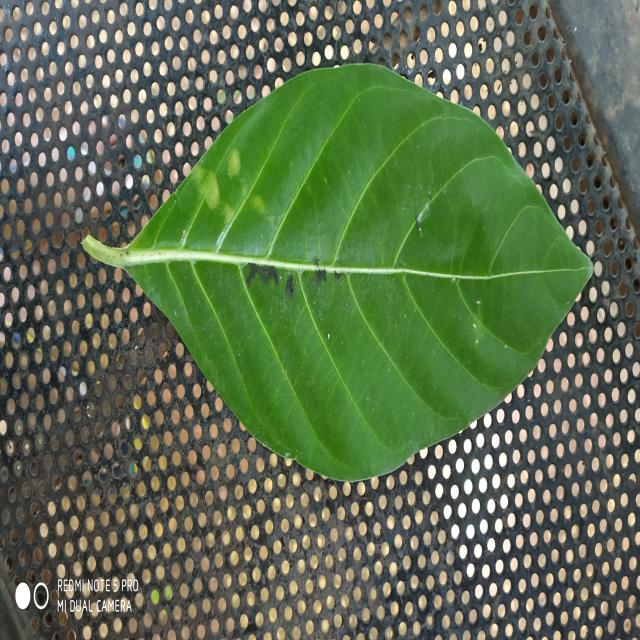nooni: (84, 64, 592, 480)
